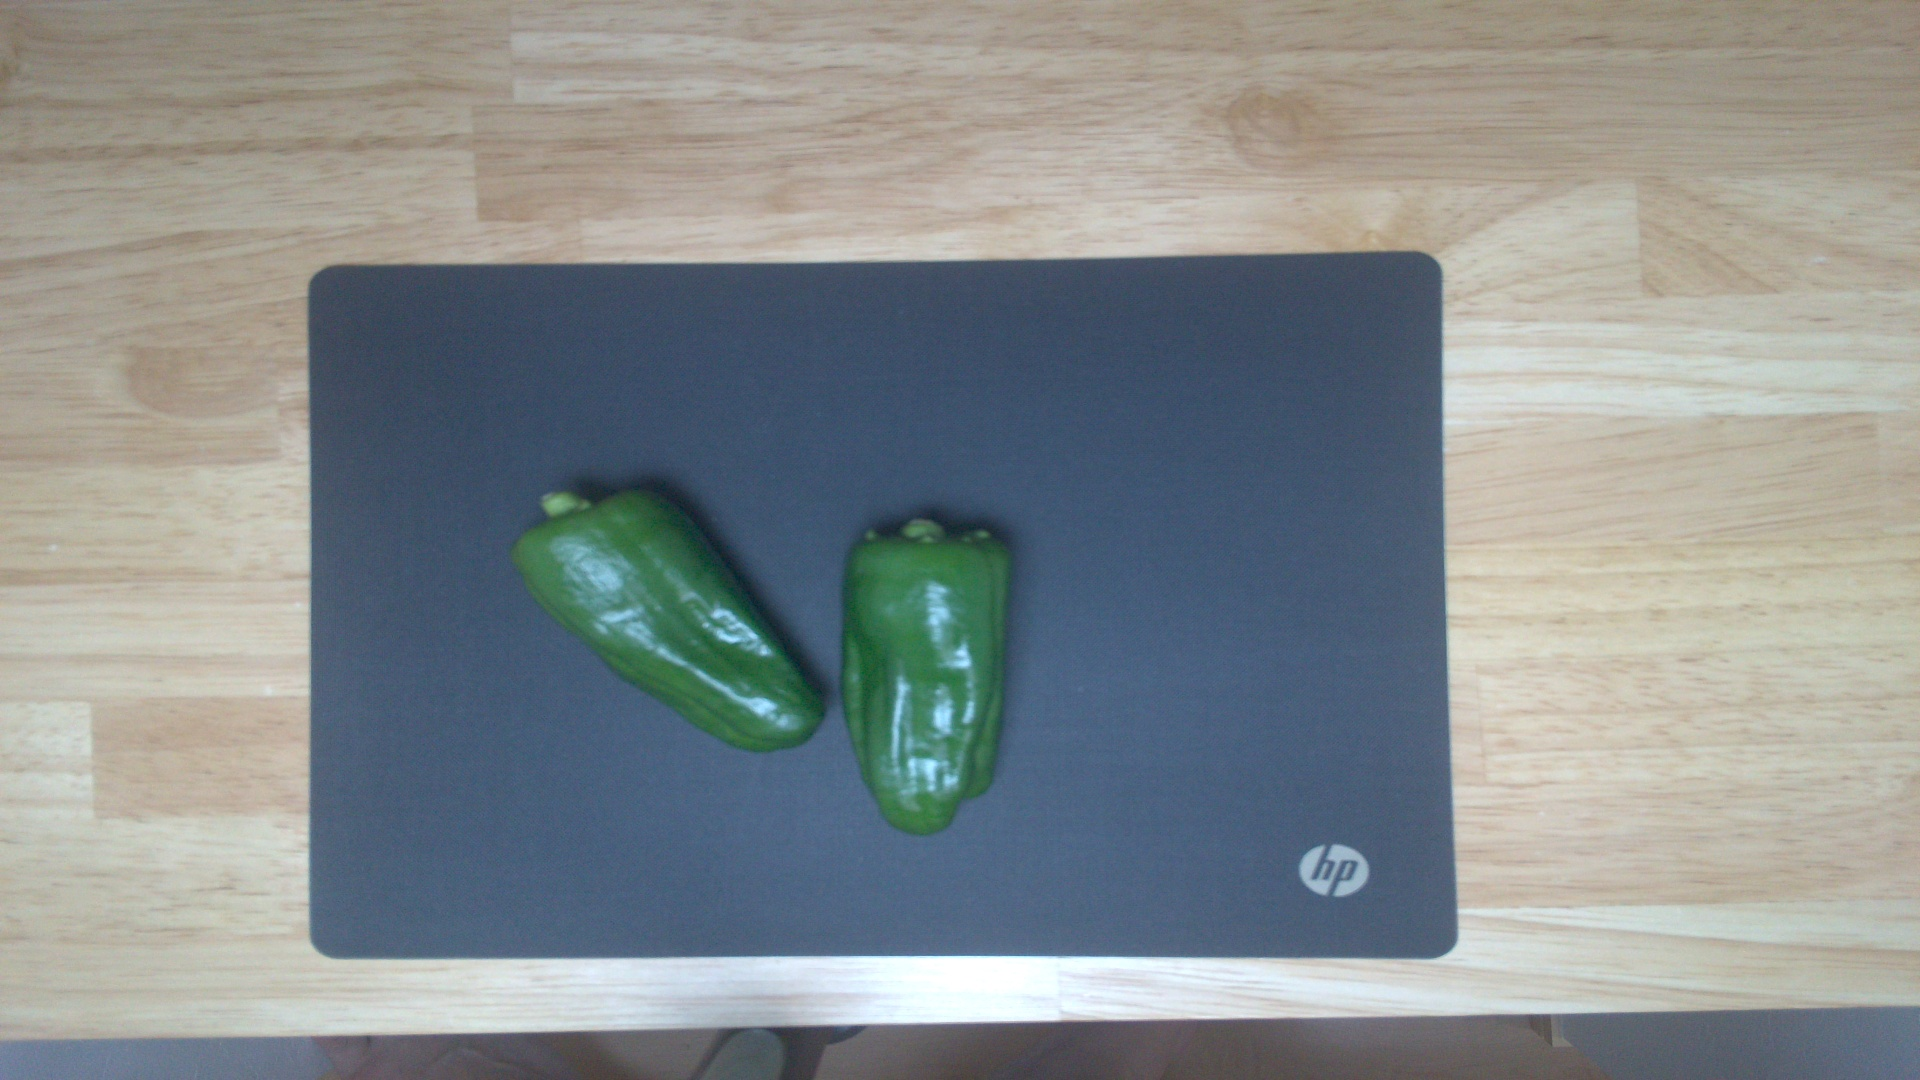Piman: (501, 476, 828, 757), (839, 520, 1017, 835)
